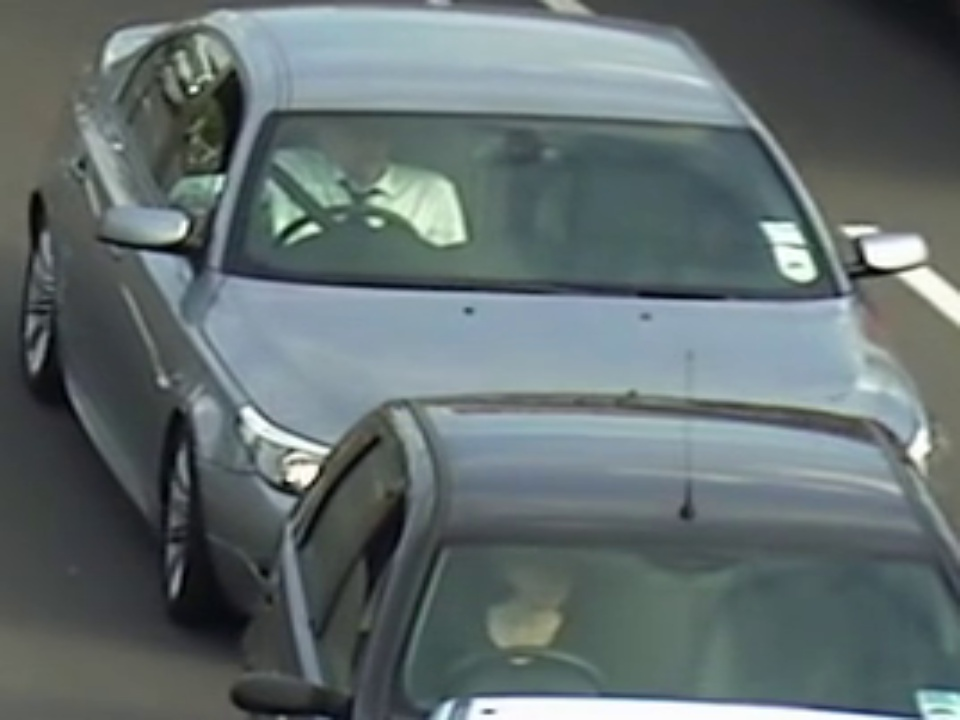ONE: (260, 112, 821, 294)
